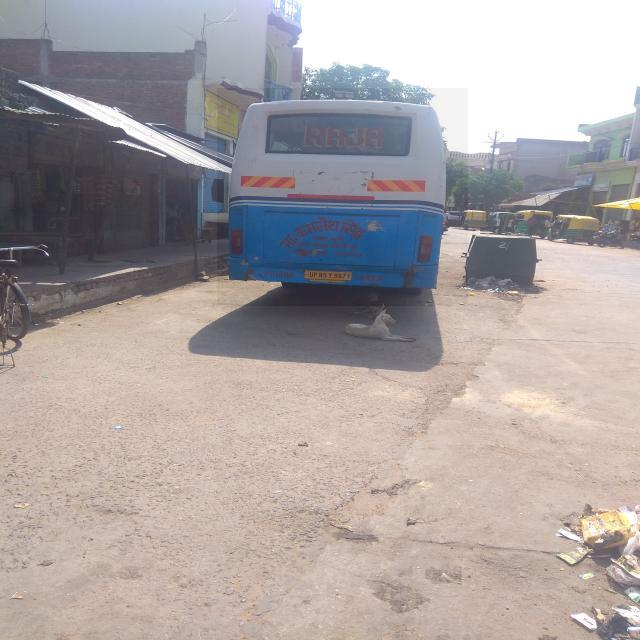Bus: (217, 88, 468, 306)
